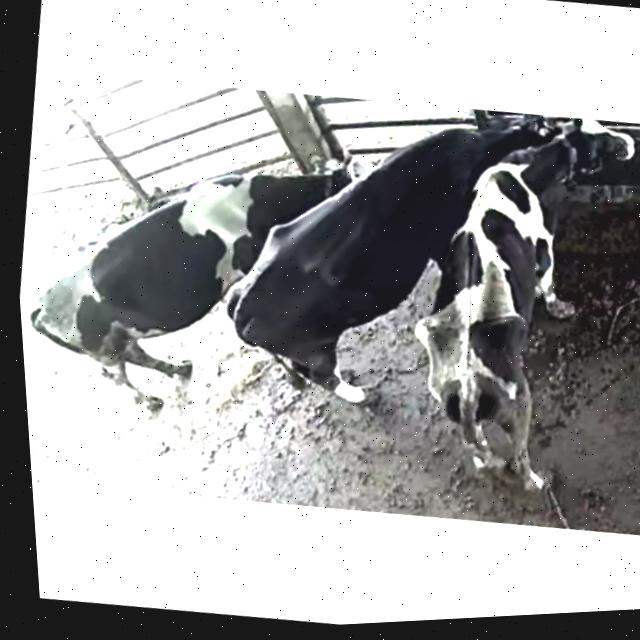drink: (422, 100, 558, 200)
